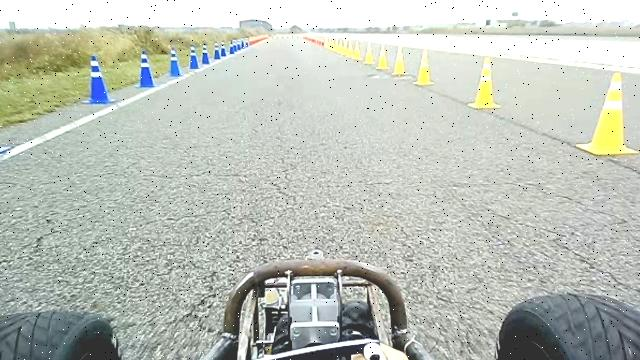blue cone: (81, 55, 115, 104), (0, 67, 14, 158), (135, 49, 156, 88), (168, 47, 183, 77), (188, 46, 200, 70), (200, 44, 210, 65), (213, 42, 221, 60), (220, 41, 227, 57), (229, 41, 235, 54)
yellow cone: (575, 71, 638, 156), (467, 56, 501, 109), (412, 49, 434, 86), (392, 44, 408, 75), (376, 42, 390, 70), (363, 42, 375, 64), (351, 42, 362, 60), (345, 42, 354, 58)
